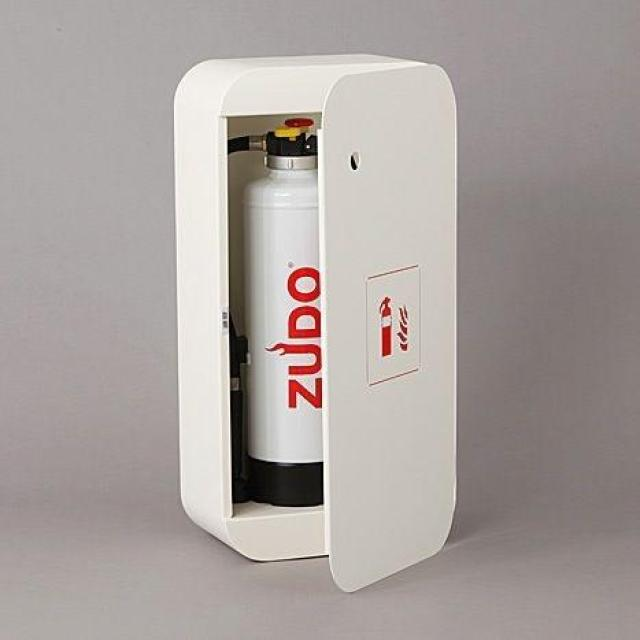fire_extinguisher: (192, 100, 392, 522)
